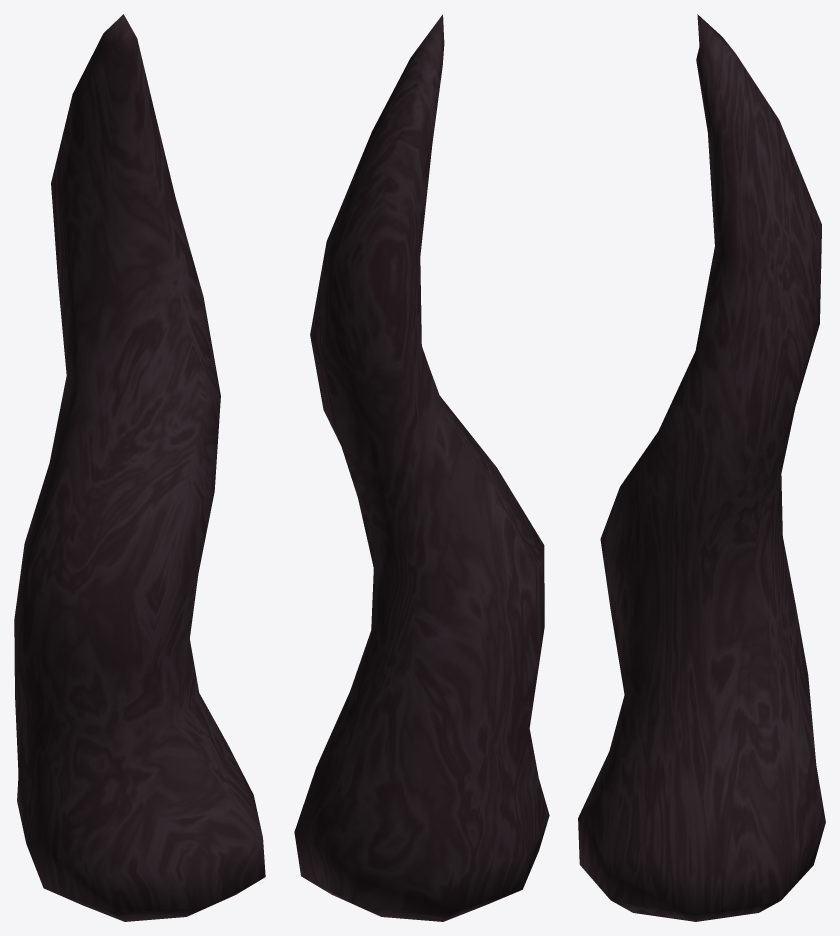
The model's file is TreeTrunk.fbx.
3 views of the same model, side by side, from view 1: azimuth 30°, elevation 25°; view 2: azimuth 150°, elevation 25°; view 3: azimuth 270°, elevation 25° (orthographic).
Parts seen in each view (by area): view 1: TreeTrunk; view 2: TreeTrunk; view 3: TreeTrunk.
Part boxes in pixels (bbox=[...]): TreeTrunk: bbox=[14, 14, 265, 921]; TreeTrunk: bbox=[294, 14, 549, 921]; TreeTrunk: bbox=[578, 14, 825, 921].
Bounding box in the file's own units: 53.09 × 200 × 51.38.
